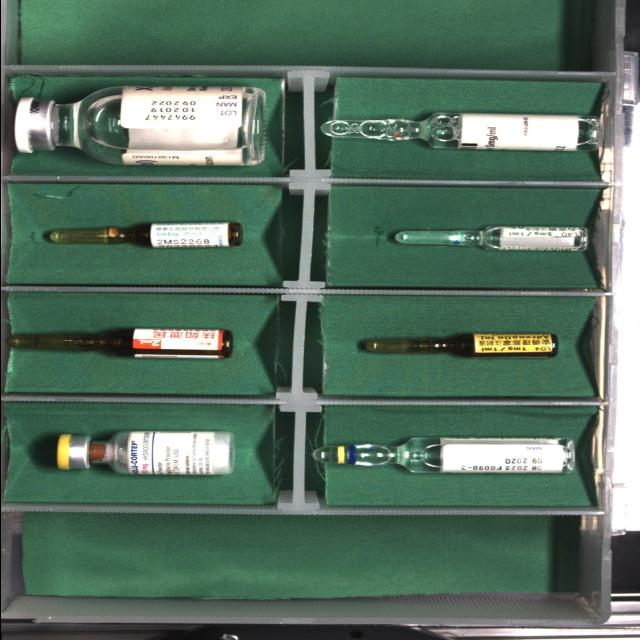Vials: (14, 86, 264, 166), (55, 431, 231, 475)
